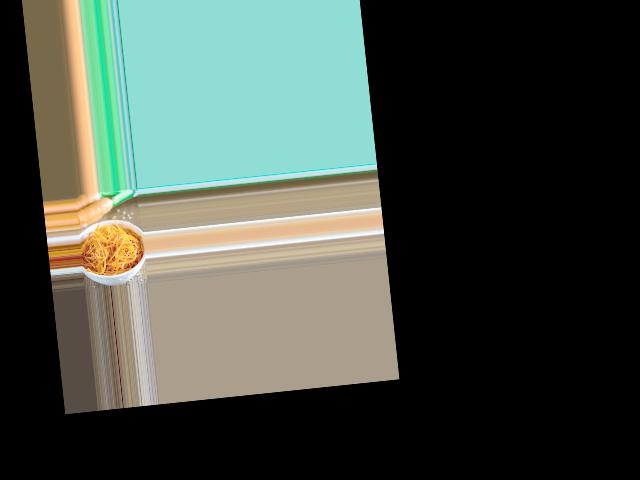carrot: (76, 198, 116, 223)
